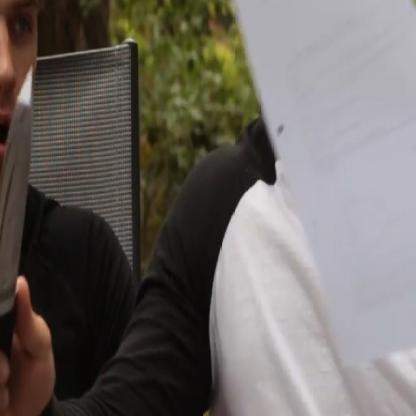knife: (0, 53, 46, 415)
